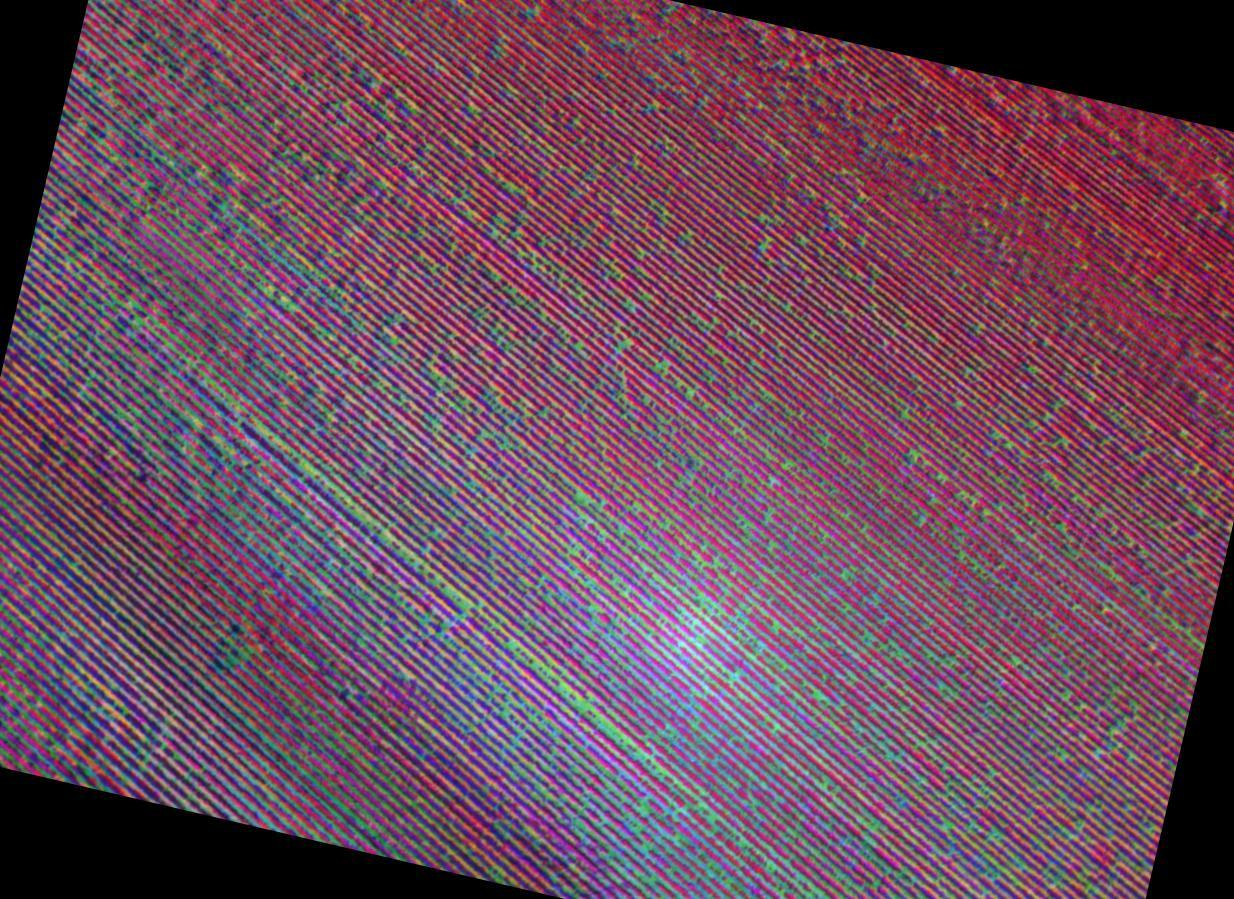dc: (228, 460, 333, 550), (668, 578, 749, 672), (548, 708, 631, 798), (86, 318, 165, 406), (398, 568, 463, 644)
